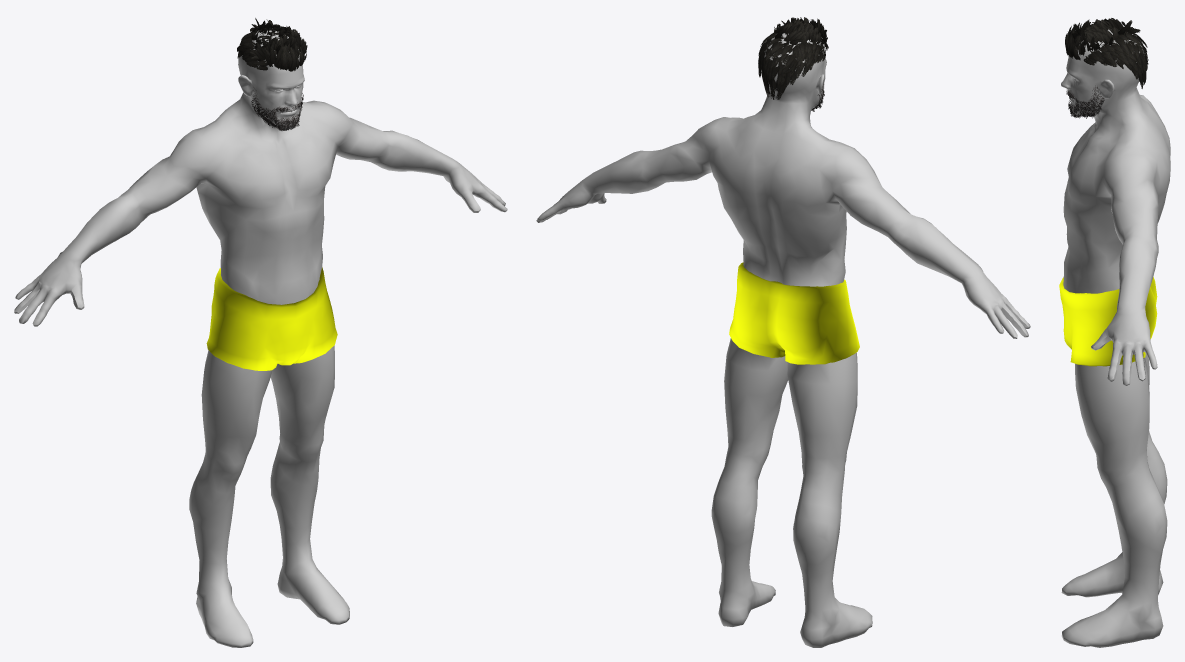
File: Man_test_4.obj
The picture shows the model from 3 angles, left to right: view 1: azimuth 30°, elevation 25°; view 2: azimuth 150°, elevation 25°; view 3: azimuth 270°, elevation 25°; orthographic projection.
Parts seen in each view (by area): view 1: new_body, new_pant, new_hair, man__Beard003; view 2: new_body, new_pant, new_hair; view 3: new_body, new_pant, new_hair, man__Beard003.
Part boxes in pixels (box(x1,y1,x2,y2)): new_body: box(14, 28, 507, 647); new_pant: box(206, 267, 337, 370); new_hair: box(237, 18, 307, 71); man__Beard003: box(251, 87, 303, 130); new_body: box(536, 33, 1030, 647); new_pant: box(729, 262, 859, 364); new_hair: box(758, 17, 828, 99); new_body: box(1061, 29, 1170, 647); new_pant: box(1059, 277, 1157, 366); new_hair: box(1065, 18, 1148, 88); man__Beard003: box(1066, 85, 1104, 118).
Size of the model in its own units: 160 by 189 by 31.78.
